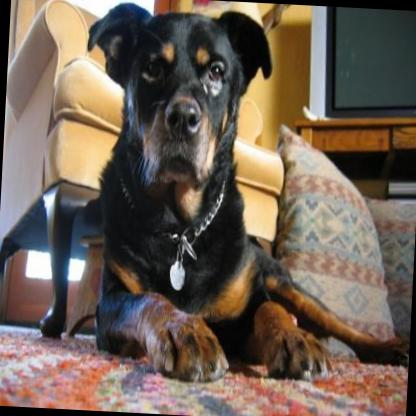Rottweiler: (66, 0, 416, 391)
